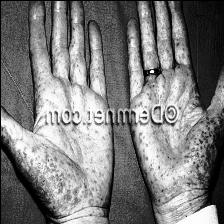Potentially Malignant Skin Tumors: (185, 83, 224, 184), (134, 127, 174, 192), (30, 148, 76, 202), (42, 35, 60, 82), (168, 36, 190, 66), (140, 24, 152, 64), (0, 113, 14, 140)
